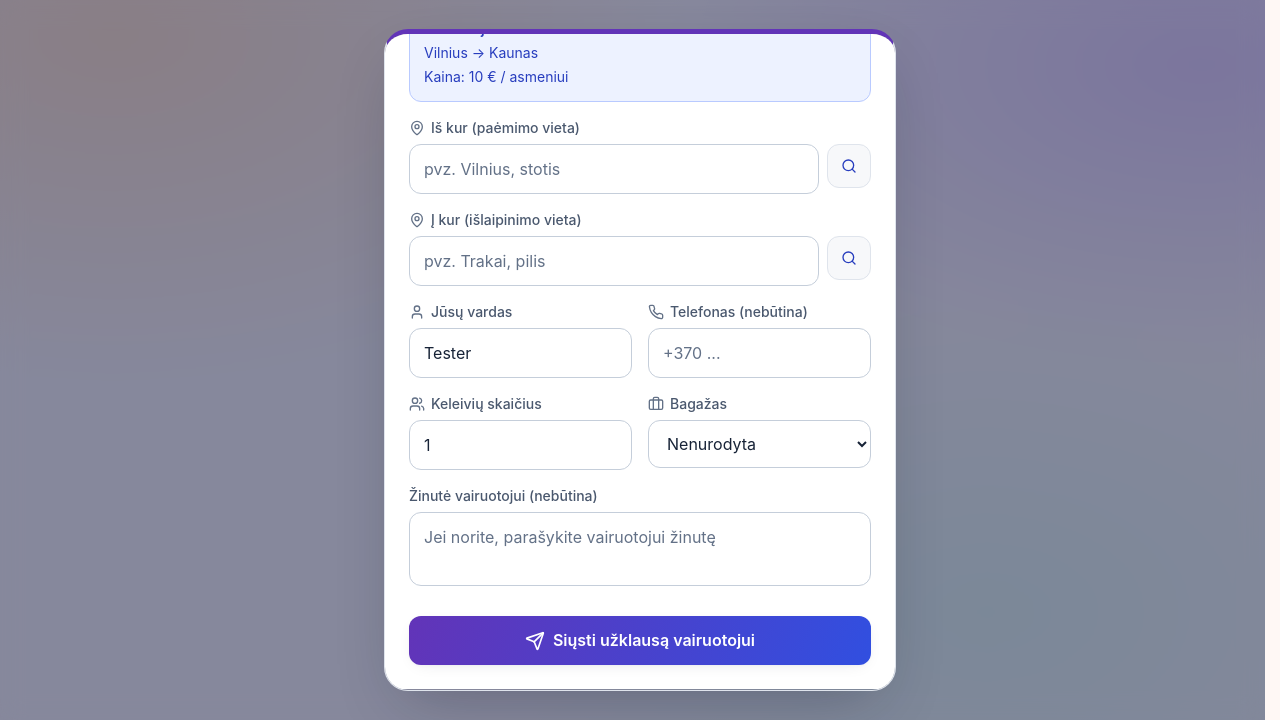
Scenario: user workflows › asks for the missing pickup rather than the already filled profile name
(page scrolled)
Expected: the field showing "Tester" is shown, [409, 328, 632, 378]
Click the button "Siųsti užklausą vairuotojui".
click(640, 641)  # box [409, 616, 871, 665]
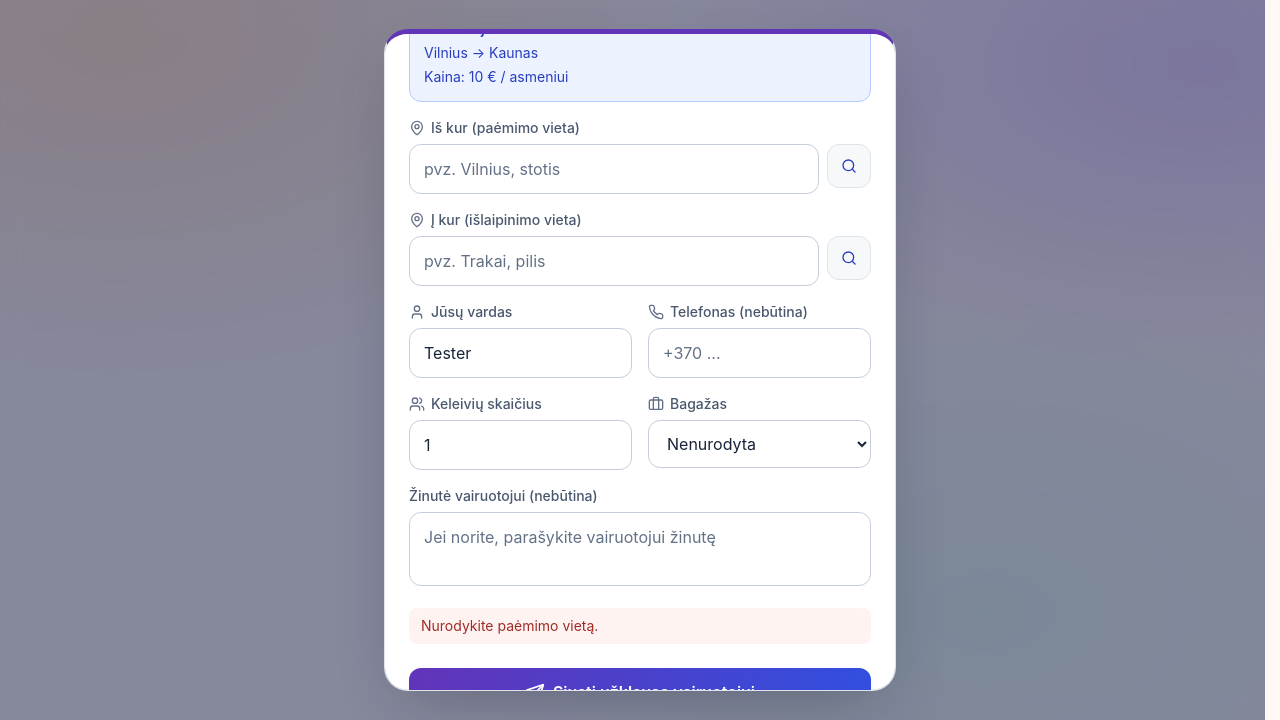
Now the text "Nurodykite paėmimo vietą." is shown, box [409, 608, 871, 644]
